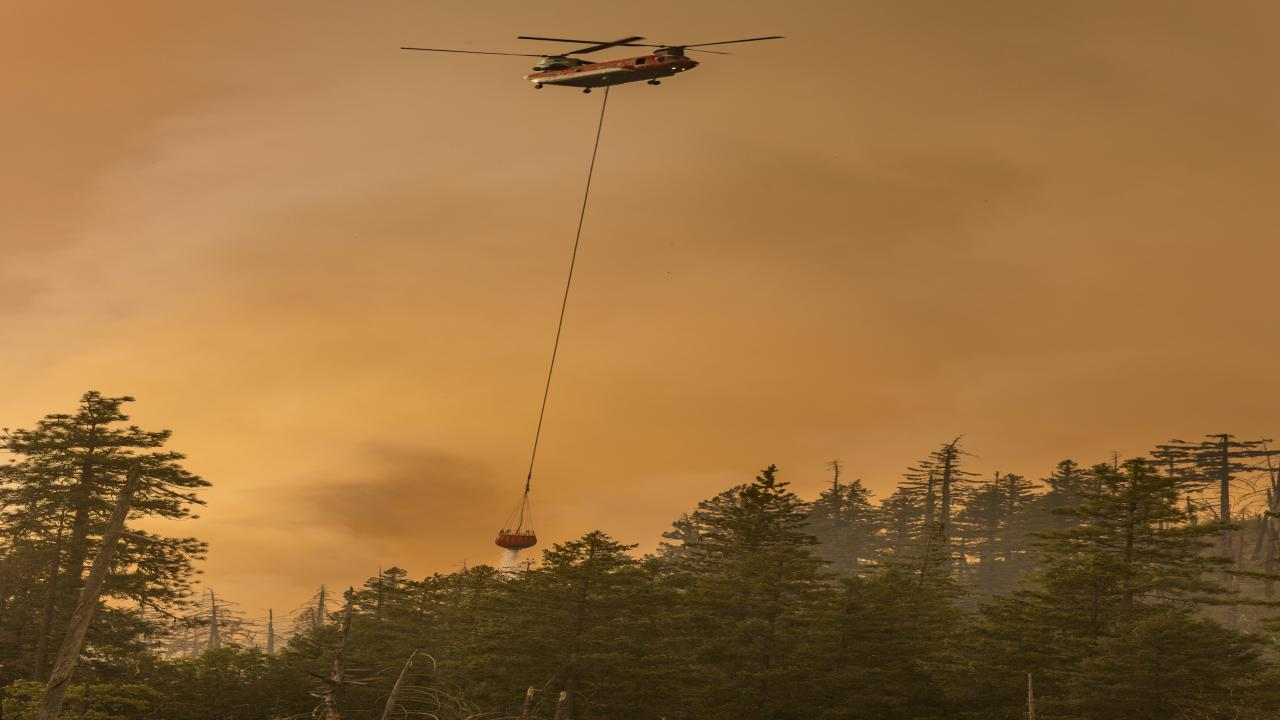Helicopter: (373, 26, 811, 97)
